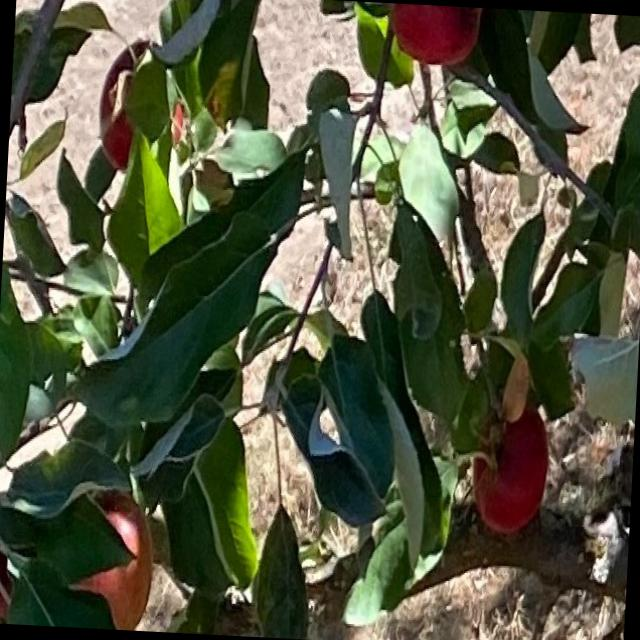Apples: (66, 490, 156, 630), (96, 36, 186, 174), (471, 402, 549, 536), (390, 4, 479, 62), (0, 537, 17, 623)
